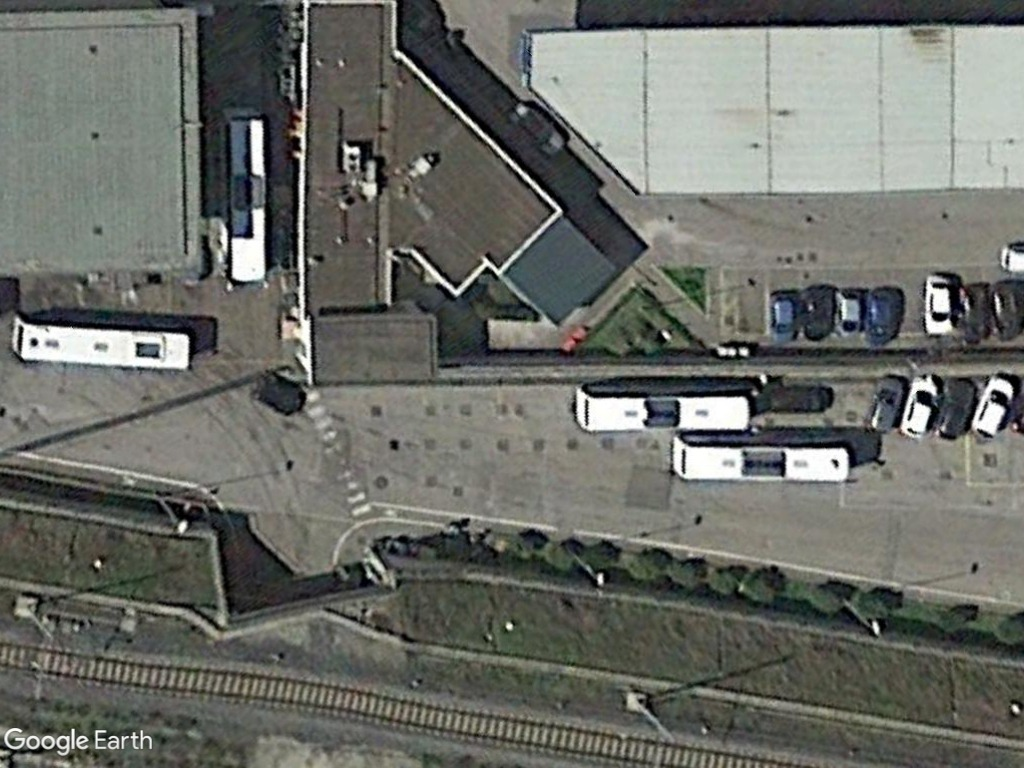bus: (8, 311, 199, 377), (572, 378, 756, 437), (668, 427, 854, 485), (218, 103, 272, 290)
car: (971, 371, 1017, 443), (901, 372, 943, 440), (920, 270, 958, 337), (830, 284, 864, 341), (767, 289, 800, 346)
